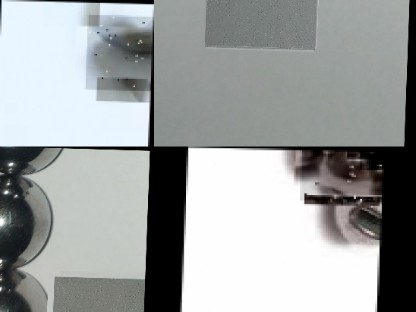ironball: (205, 0, 318, 48), (0, 175, 56, 269), (84, 14, 153, 90), (298, 149, 383, 201), (320, 178, 382, 249), (52, 274, 146, 311), (0, 272, 54, 311), (0, 144, 64, 173), (357, 150, 383, 168)
